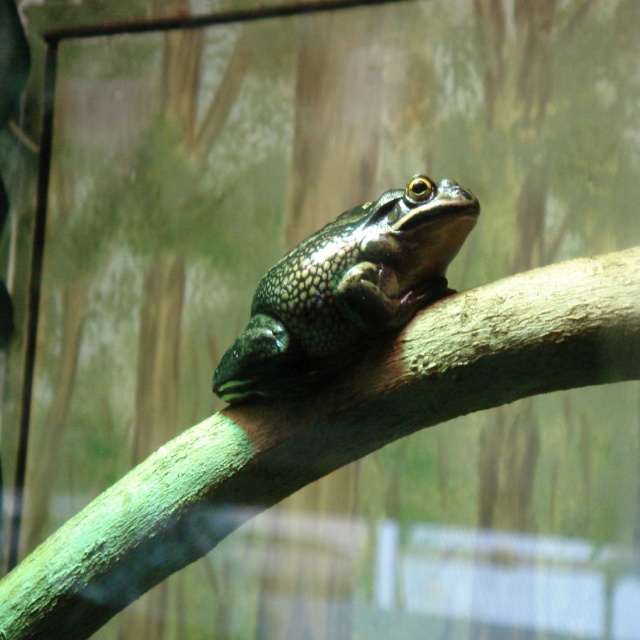Frog: (209, 170, 483, 408)
